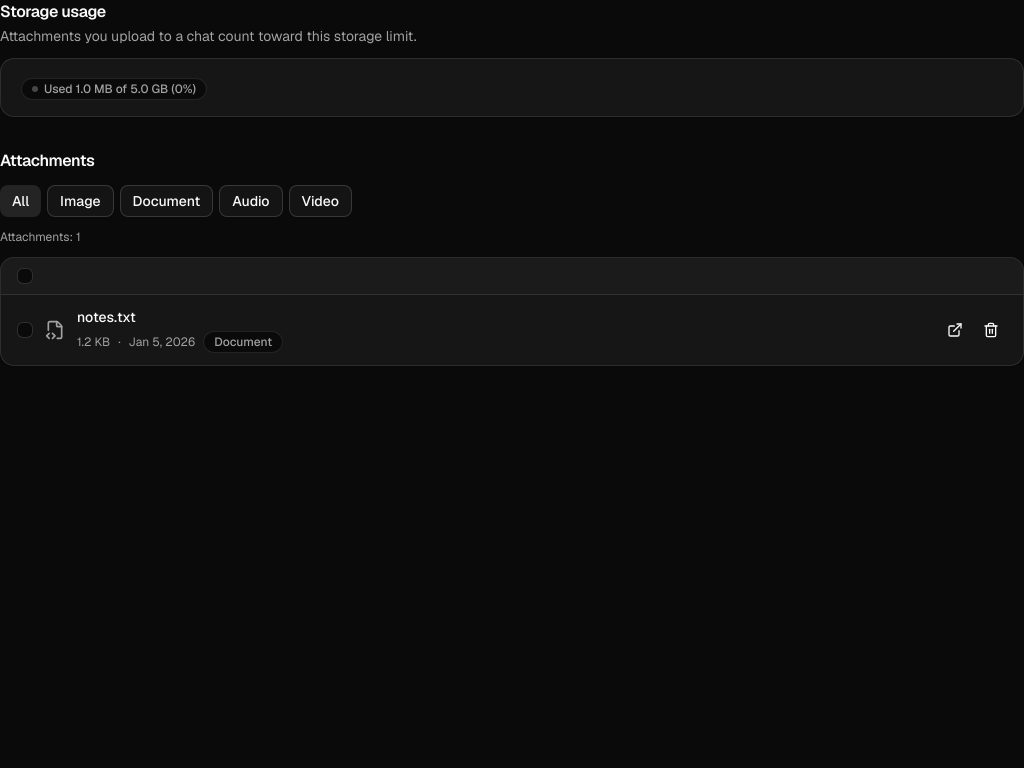
Scenario: FilesScreen › deletes an unreferenced attachment after confirmation
Check: the text "notes.txt" is shown, box [77,308,136,326]
Click the button named "Delete notes.txt" at (991, 330), box [975,314,1007,346]
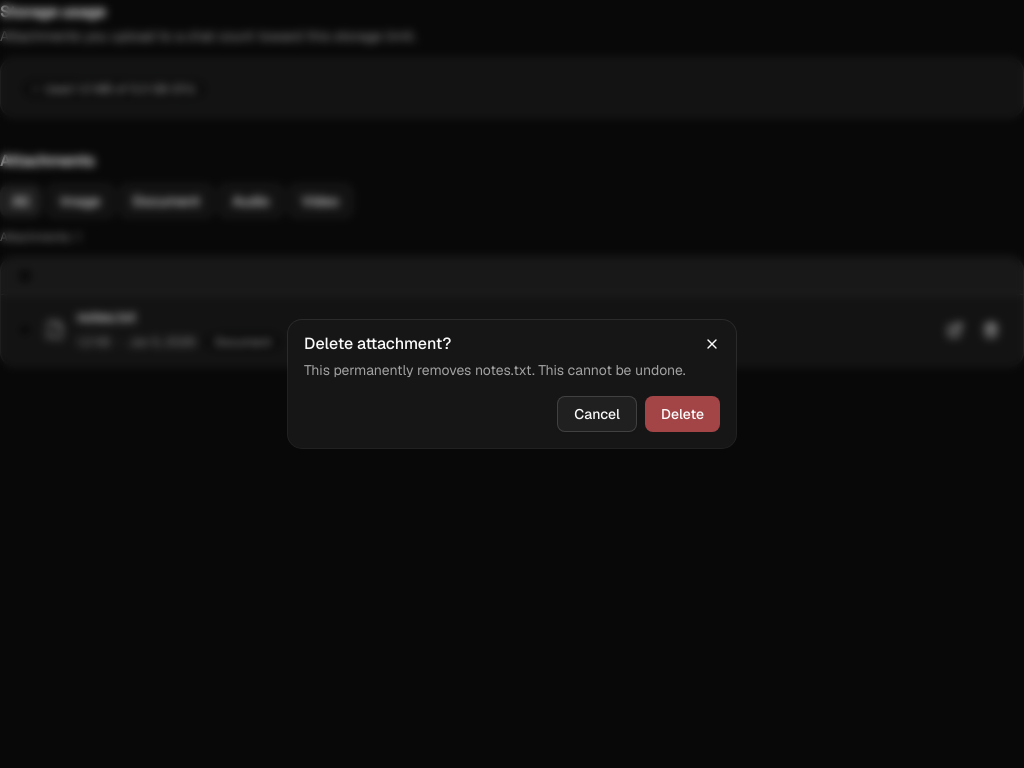
Click the button "Delete" at (682, 414), box [645,396,720,432]
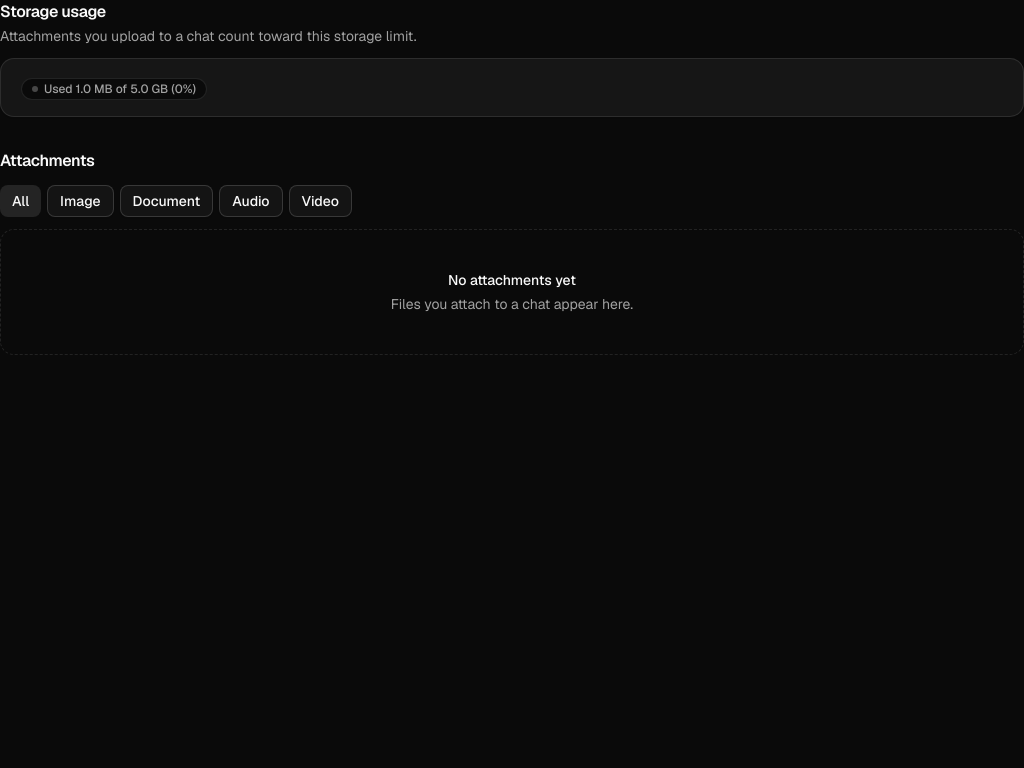
Check: the text "No attachments yet" is shown, box [448,270,576,290]
